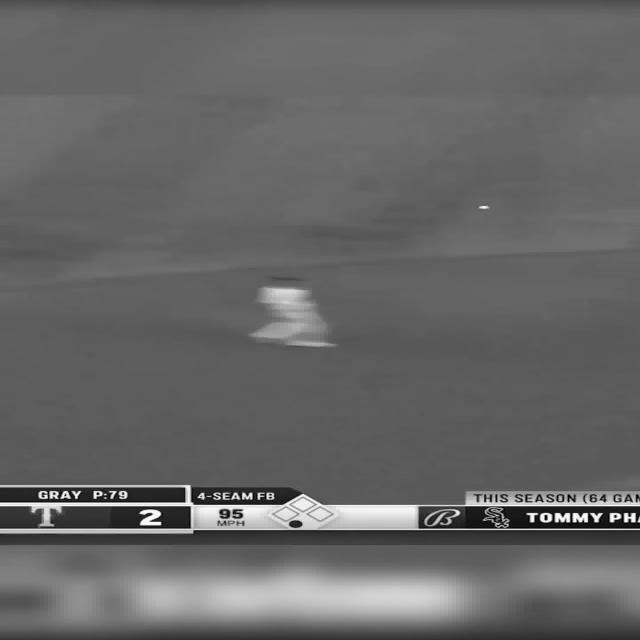baseball: (478, 205, 489, 210)
